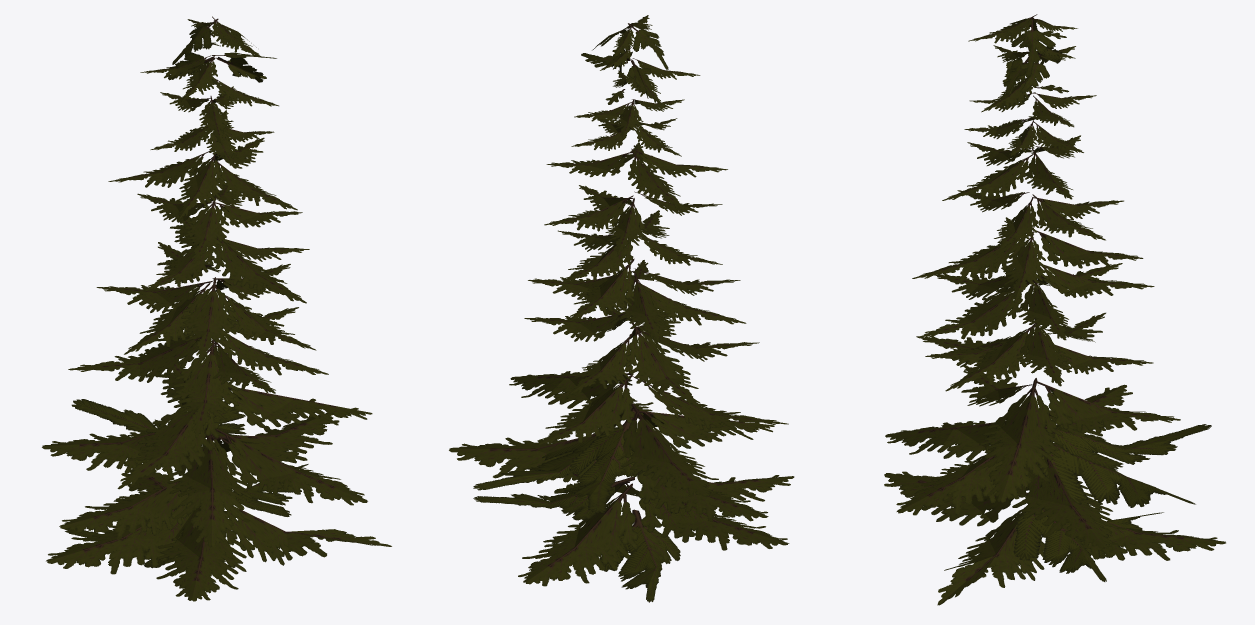
File: Tree_Pine_Leafs.obj
The picture shows the model from 3 angles, left to right: view 1: azimuth 30°, elevation 25°; view 2: azimuth 150°, elevation 25°; view 3: azimuth 270°, elevation 25°; orthographic projection. The views are drawn at different scales.
Parts seen in each view (by area): view 1: Plane.041_Mesh, Plane.051_Plane.1539, Plane.043_Plane.1524, Plane.003_Plane.1437, Plane.039_Plane.1520, Plane.011_Plane.1485, Plane.007_Plane.1481, Plane.015_Plane.1489, Plane.010_Plane.1484, Plane.006_Plane.1480, Plane.008_Plane.1482, Plane.045_Plane.1528 (+30 smaller); view 2: Leaf_1_Plane.1479, Plane.008_Plane.1482, Plane.003_Plane.1437, Plane.052_Plane.1548, Plane.056_Plane.1544, Plane.009_Plane.1483, Plane.006_Plane.1480, Plane.045_Plane.1528, Plane.039_Plane.1520, Plane.010_Plane.1484, Plane.041_Mesh, Plane.058_Plane.1546 (+23 smaller); view 3: Plane.010_Plane.1484, Plane.006_Plane.1480, Plane.007_Plane.1481, Plane.058_Plane.1546, Plane.011_Plane.1485, Plane.052_Plane.1548, Plane.057_Plane.1545, Plane.041_Mesh, Plane.009_Plane.1483, Leaf_1_Plane.1479, Plane.051_Plane.1539, Plane.023_Plane.1497 (+26 smaller).
Boxes of the visible parts, x1=… form: Plane.041_Mesh: x1=167, y1=426, x2=252, y2=547; Plane.051_Plane.1539: x1=156, y1=506, x2=246, y2=601; Plane.043_Plane.1524: x1=117, y1=406, x2=219, y2=489; Plane.003_Plane.1437: x1=46, y1=502, x2=193, y2=574; Plane.039_Plane.1520: x1=59, y1=481, x2=190, y2=539; Plane.011_Plane.1485: x1=215, y1=429, x2=367, y2=505; Plane.007_Plane.1481: x1=226, y1=506, x2=391, y2=565; Plane.015_Plane.1489: x1=172, y1=339, x2=239, y2=437; Plane.010_Plane.1484: x1=224, y1=387, x2=372, y2=427; Plane.006_Plane.1480: x1=211, y1=412, x2=339, y2=465; Plane.008_Plane.1482: x1=42, y1=432, x2=161, y2=474; Plane.045_Plane.1528: x1=68, y1=336, x2=201, y2=382; Leaf_1_Plane.1479: x1=518, y1=483, x2=638, y2=586; Plane.008_Plane.1482: x1=617, y1=403, x2=718, y2=496; Plane.003_Plane.1437: x1=638, y1=473, x2=789, y2=550; Plane.052_Plane.1548: x1=569, y1=408, x2=653, y2=513; Plane.056_Plane.1544: x1=599, y1=509, x2=680, y2=602; Plane.009_Plane.1483: x1=538, y1=374, x2=634, y2=444; Plane.006_Plane.1480: x1=449, y1=432, x2=602, y2=483; Plane.045_Plane.1528: x1=625, y1=323, x2=701, y2=409; Plane.039_Plane.1520: x1=637, y1=471, x2=768, y2=521; Plane.010_Plane.1484: x1=509, y1=371, x2=632, y2=408; Plane.041_Mesh: x1=633, y1=410, x2=774, y2=448; Plane.058_Plane.1546: x1=473, y1=423, x2=637, y2=490; Plane.010_Plane.1484: x1=974, y1=378, x2=1063, y2=502; Plane.006_Plane.1480: x1=1007, y1=447, x2=1126, y2=548; Plane.007_Plane.1481: x1=937, y1=507, x2=1044, y2=605; Plane.058_Plane.1546: x1=1037, y1=443, x2=1195, y2=507; Plane.011_Plane.1485: x1=896, y1=450, x2=1028, y2=515; Plane.052_Plane.1548: x1=1044, y1=424, x2=1211, y2=468; Plane.057_Plane.1545: x1=1013, y1=493, x2=1106, y2=581; Plane.041_Mesh: x1=885, y1=421, x2=1005, y2=460; Plane.009_Plane.1483: x1=1037, y1=381, x2=1180, y2=433; Leaf_1_Plane.1479: x1=1082, y1=520, x2=1225, y2=560; Plane.051_Plane.1539: x1=884, y1=471, x2=1028, y2=526; Plane.023_Plane.1497: x1=918, y1=283, x2=1028, y2=339.
Bounding box in the file's own units: 2.6 × 3.87 × 2.5.
Materials: 1 (1 with a texture image).
